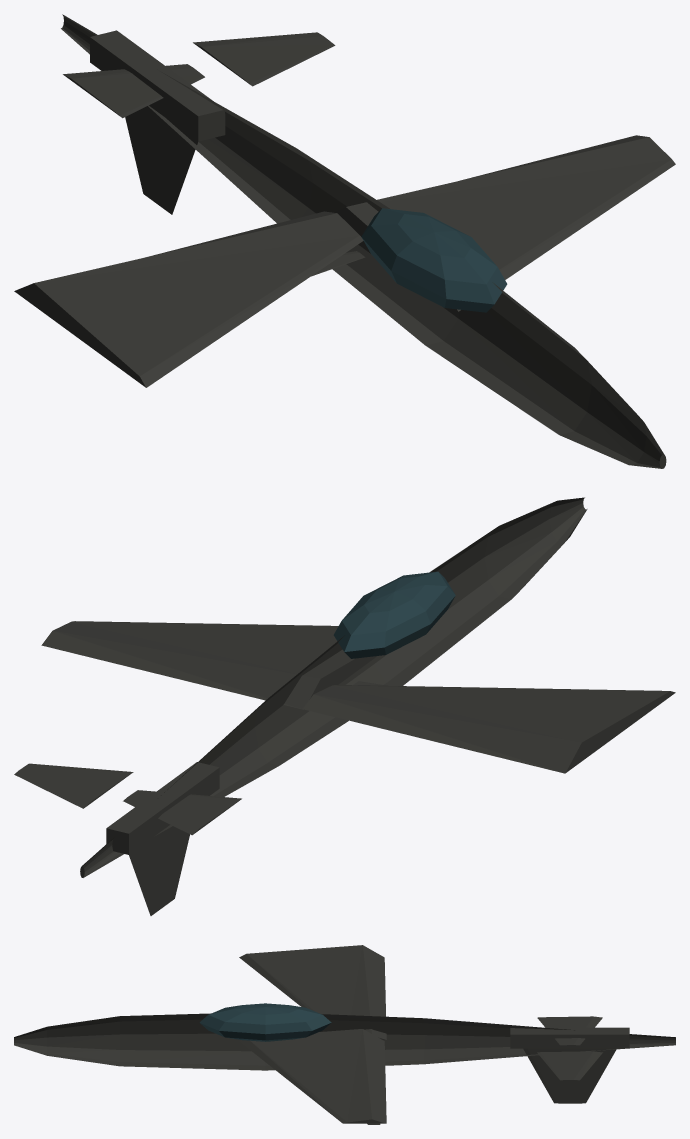
The model's file is su34_Destroyed.glb.
3 renders of one model, top to bottom at view 1: azimuth 30°, elevation 25°; view 2: azimuth 150°, elevation 25°; view 3: azimuth 270°, elevation 25°, orthographic. The views are drawn at different scales.
Visible parts, largest first — view 1: Fuselage, Wing_L, Wing_R, Cockpit, TailBoom, Rudder, Elevator_R, Elevator_L; view 2: Fuselage, Wing_L, Wing_R, Cockpit, TailBoom, Rudder, Elevator_R, Elevator_L; view 3: Fuselage, Wing_R, Wing_L, Cockpit, TailBoom, Rudder, Elevator_R, Elevator_L.
Boxes of the visible parts, box(x1,y1,x2,y2) form: Fuselage: box(61, 14, 666, 468); Wing_L: box(14, 211, 363, 387); Wing_R: box(332, 135, 675, 311); Cockpit: box(361, 208, 507, 312); TailBoom: box(90, 30, 225, 141); Rudder: box(125, 106, 197, 214); Elevator_R: box(193, 32, 335, 86); Elevator_L: box(63, 64, 204, 118); Fuselage: box(80, 497, 587, 877); Wing_L: box(303, 685, 675, 773); Wing_R: box(41, 621, 377, 709); Cockpit: box(333, 571, 455, 658); TailBoom: box(106, 762, 219, 854); Rudder: box(129, 826, 189, 915); Elevator_R: box(14, 763, 133, 808); Elevator_L: box(123, 790, 241, 835); Fuselage: box(14, 1013, 675, 1070); Wing_R: box(239, 1029, 386, 1123); Wing_L: box(239, 945, 386, 1039); Cockpit: box(199, 1003, 331, 1041); TailBoom: box(510, 1027, 629, 1048); Rudder: box(523, 1048, 616, 1103); Elevator_R: box(537, 1051, 602, 1080); Elevator_L: box(537, 1016, 602, 1045).
Bounding box in the file's own units: 14.11 × 3.78 × 23.57.
